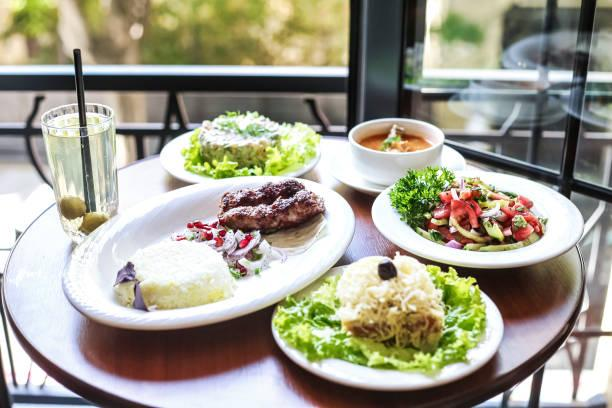Braised Crucian Carp: (65, 176, 350, 331), (270, 263, 498, 392), (370, 169, 581, 270), (158, 112, 321, 184), (332, 116, 462, 195)
